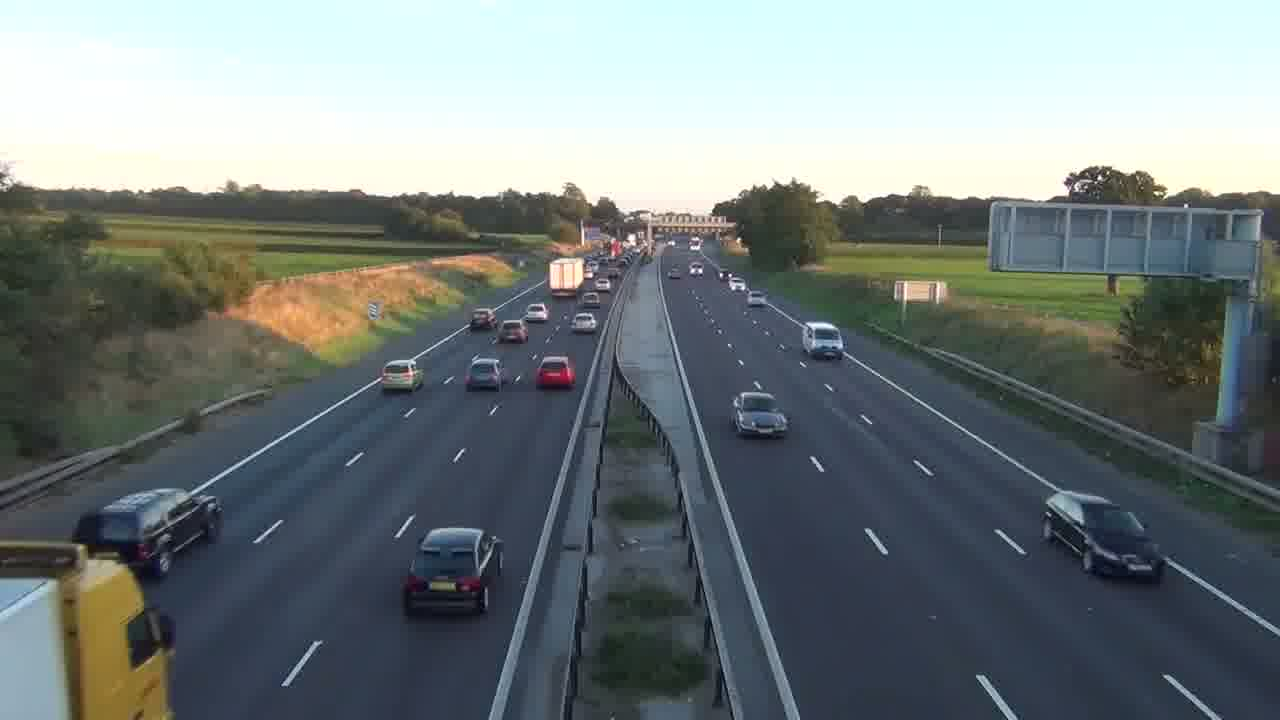bus: (381, 357, 425, 393)
car: (1040, 490, 1166, 583), (401, 526, 504, 617), (731, 391, 790, 439), (535, 353, 577, 389), (465, 355, 504, 391), (496, 319, 529, 344), (571, 311, 598, 335)
truck: (0, 540, 178, 717), (72, 487, 224, 578)
